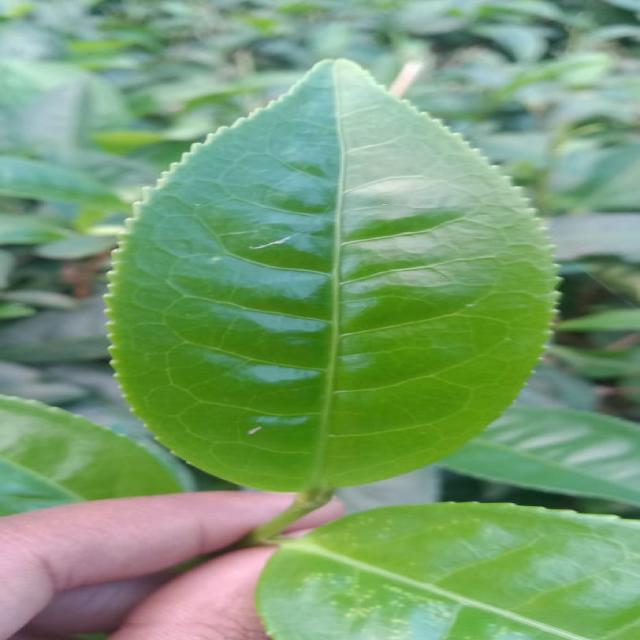Category B(2-4 days): (66, 51, 570, 496)
